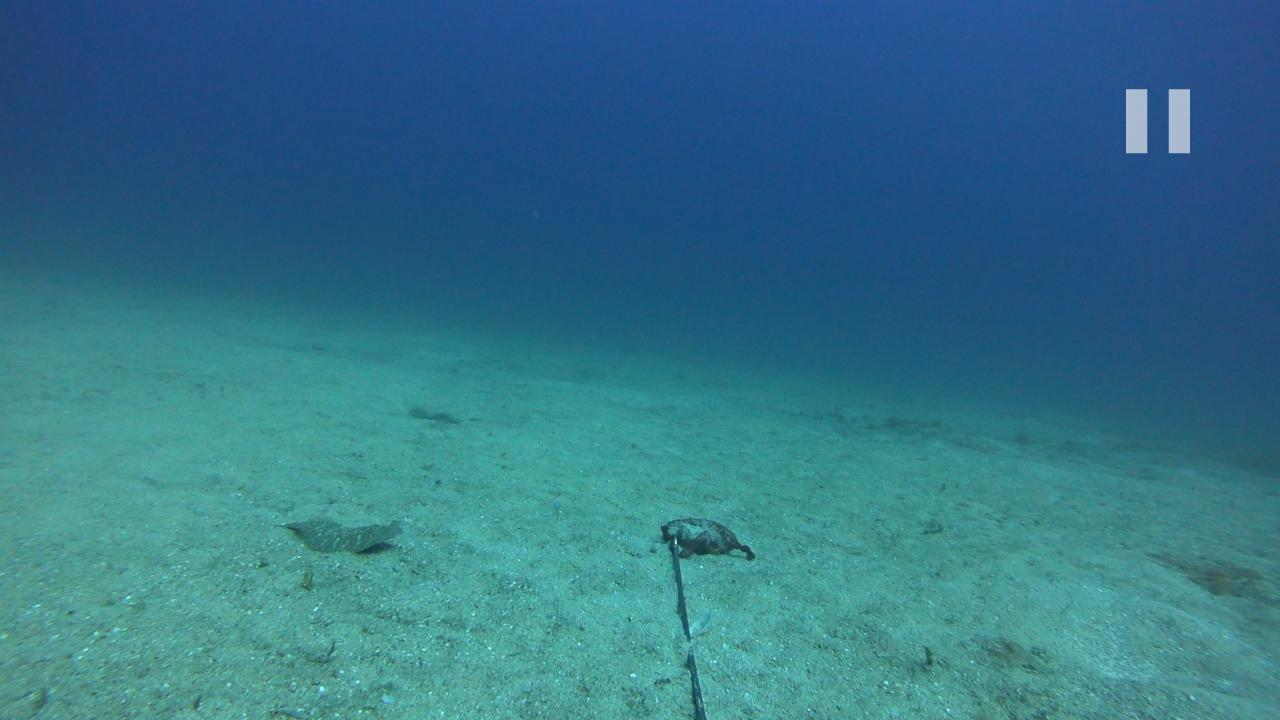bothus: (273, 511, 411, 557)
